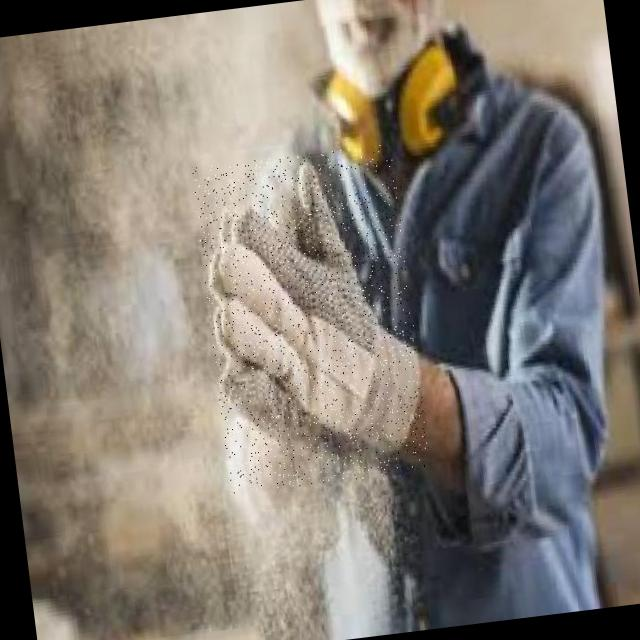forklift: (203, 142, 423, 490)
